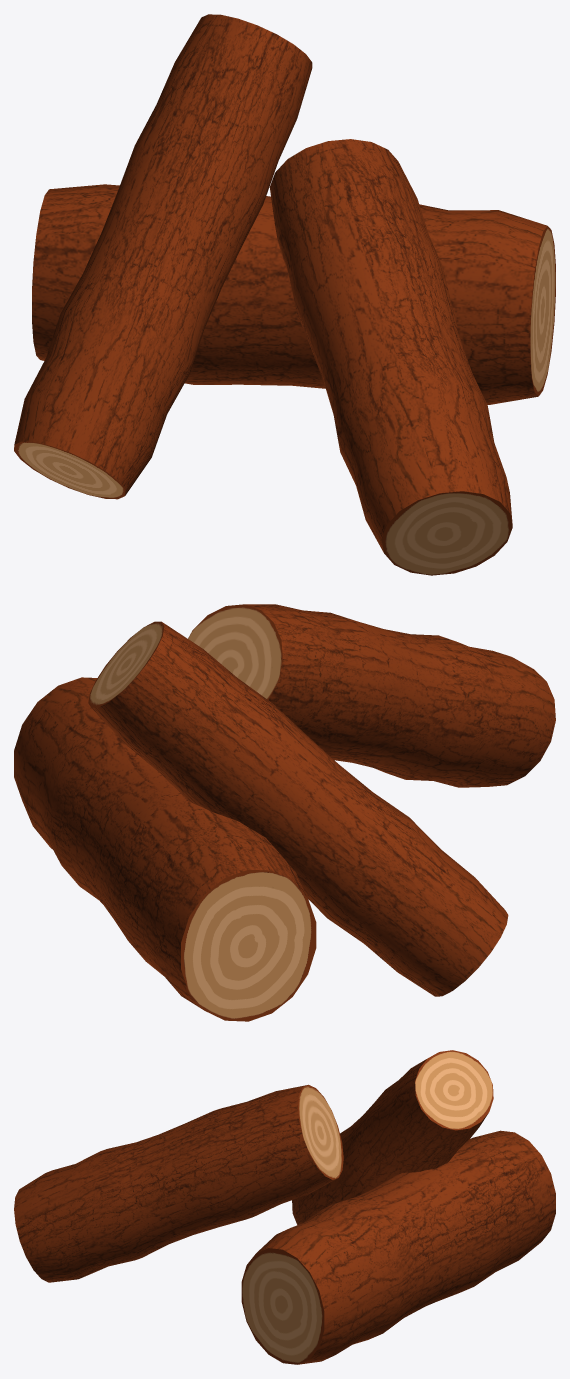
Rendered from Fogata_madera.fbx.
The picture shows the model from 3 angles, top to bottom: view 1: azimuth 30°, elevation 25°; view 2: azimuth 150°, elevation 25°; view 3: azimuth 270°, elevation 25°; orthographic projection. The views are drawn at different scales.
Parts seen in each view (by area): view 1: Cylinder003, Cylinder002, Cylinder001; view 2: Cylinder003, Cylinder001, Cylinder002; view 3: Cylinder001, Cylinder002, Cylinder003.
Boxes of the visible parts, <box> form: Cylinder003: <box>14,14,312,499</box>; Cylinder002: <box>269,139,512,575</box>; Cylinder001: <box>32,184,555,404</box>; Cylinder003: <box>88,621,508,996</box>; Cylinder001: <box>14,677,316,1021</box>; Cylinder002: <box>188,604,555,787</box>; Cylinder001: <box>241,1130,555,1364</box>; Cylinder002: <box>14,1084,343,1282</box>; Cylinder003: <box>292,1050,493,1224</box>.
Size of the model in its own units: 0.4879 by 0.3366 by 0.6141.
1 material, 1 textured.
